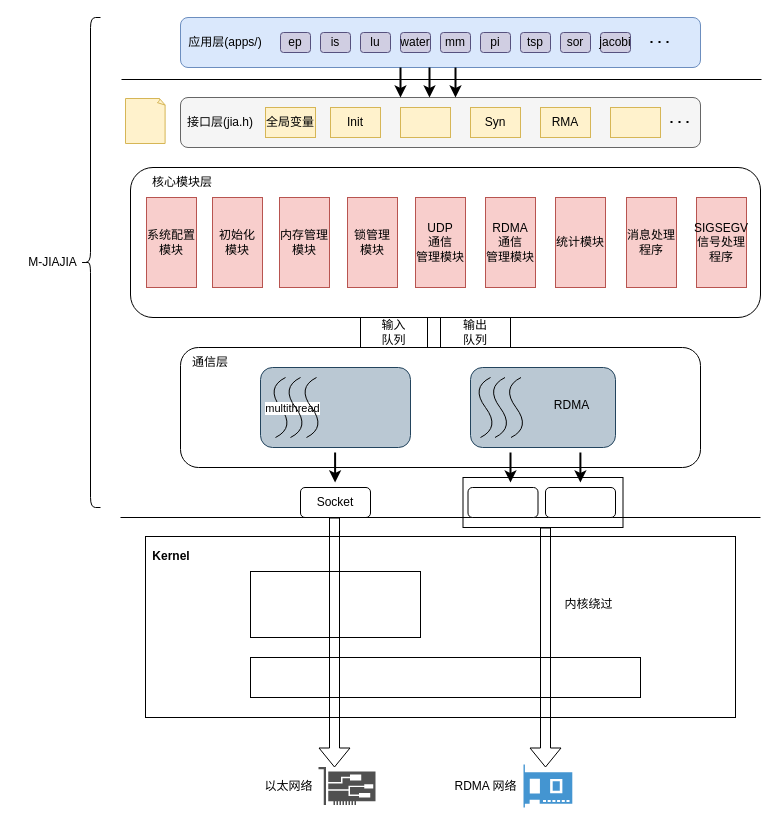
This 780x825 diagram has some shape labels left out. Here are the shapes that lost their labels. From the top down, the box of each, then its label:
(124, 98, 166, 144): 配置 文件
(400, 106, 450, 138): Alloc
(610, 106, 660, 138): MPI
(260, 366, 410, 448): UDP
(467, 486, 538, 518): Librdmacm
(544, 486, 616, 518): Libibverbs
(250, 570, 420, 638): TCP/IP 网络协议栈
(250, 656, 640, 698): 设备驱动层
